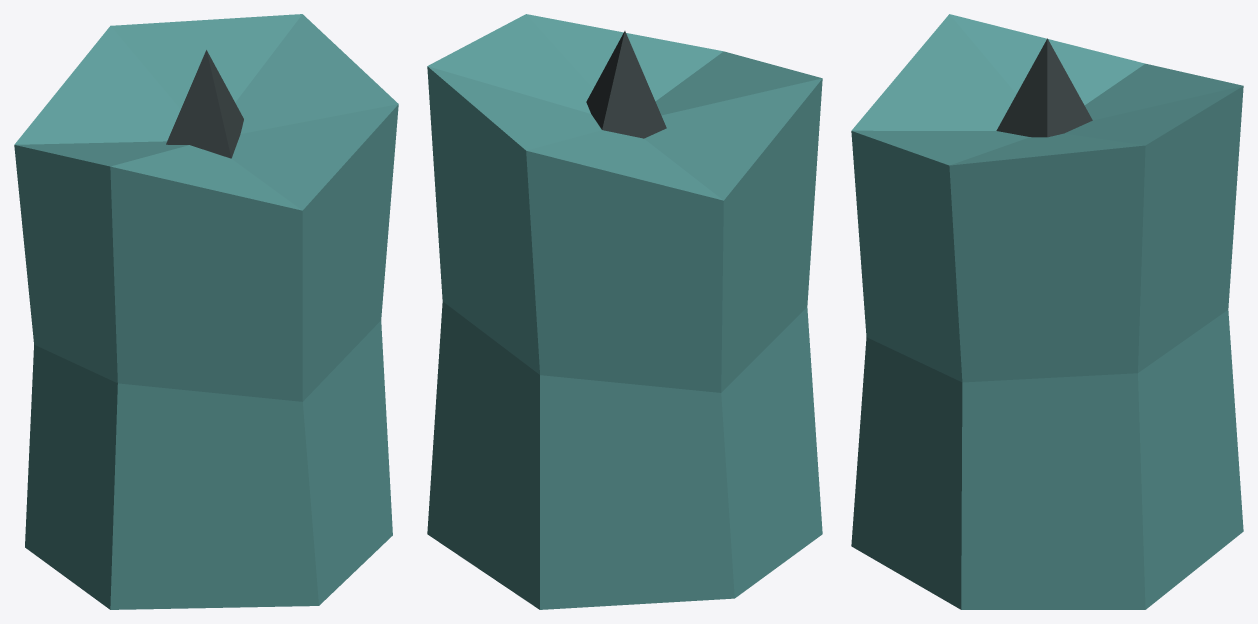
File: Candle_1_Blue.fbx
3 views of the same model, side by side, from view 1: azimuth 30°, elevation 25°; view 2: azimuth 150°, elevation 25°; view 3: azimuth 270°, elevation 25° (orthographic). The views are drawn at different scales.
Visible parts, largest first — view 1: Candle_1_Blue; view 2: Candle_1_Blue; view 3: Candle_1_Blue.
Part boxes in pixels (x1=…): Candle_1_Blue: x1=14, y1=14, x2=398, y2=609; Candle_1_Blue: x1=427, y1=14, x2=822, y2=609; Candle_1_Blue: x1=851, y1=14, x2=1243, y2=609.
Size of the model in its own units: 10.39 by 16.87 by 12.
